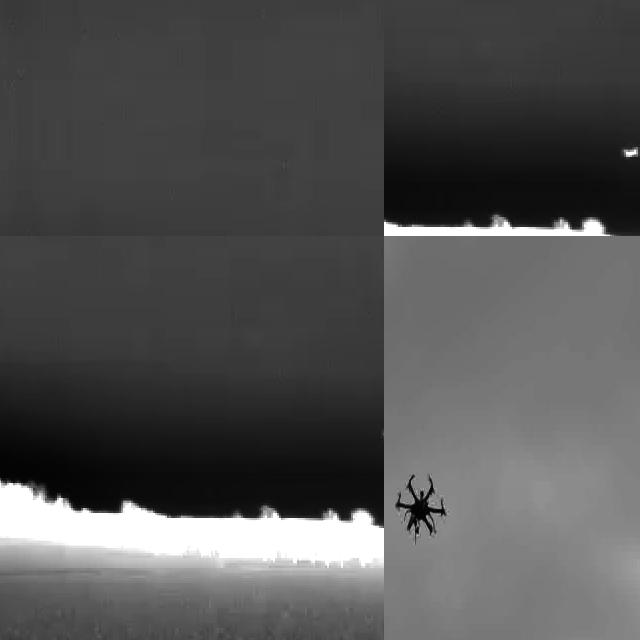1: (612, 139, 640, 174), (373, 422, 384, 455)
drone: (388, 463, 450, 541)
